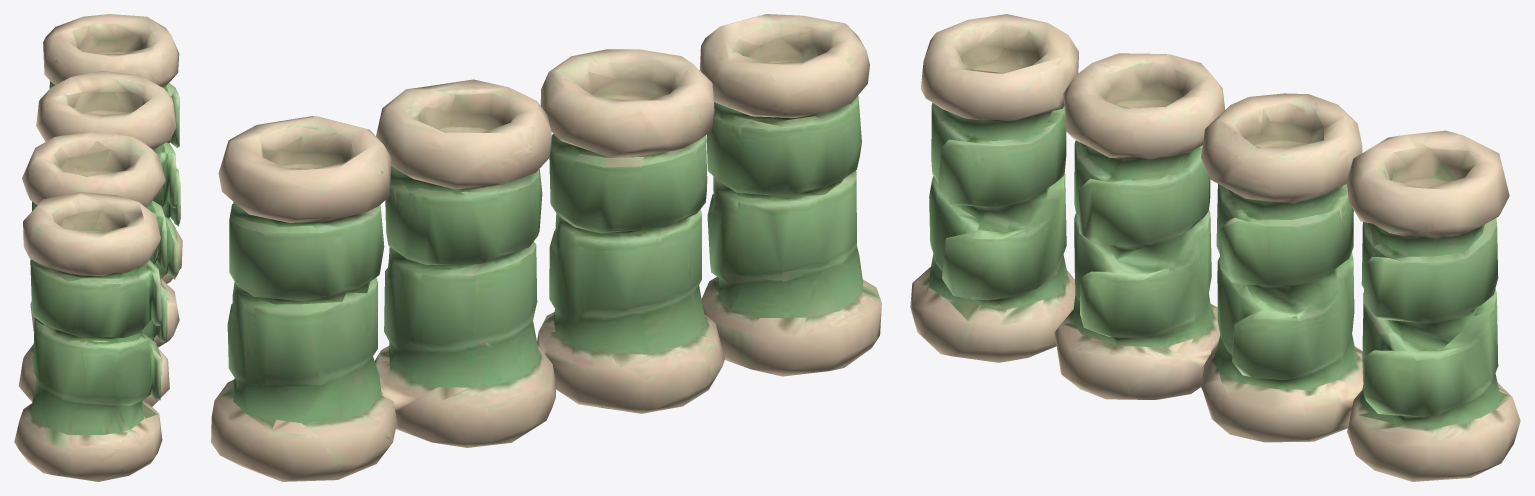
3 renders of one model, left to right at view 1: azimuth 30°, elevation 25°; view 2: azimuth 150°, elevation 25°; view 3: azimuth 270°, elevation 25°, orthographic. The views are drawn at different scales.
Visible parts, largest first — view 1: leg-wraps; view 2: leg-wraps; view 3: leg-wraps.
Part boxes in pixels (left/top/right/bottom): leg-wraps: left=14, top=14, right=182, bottom=481; leg-wraps: left=211, top=14, right=881, bottom=481; leg-wraps: left=910, top=14, right=1520, bottom=481.
Size of the model in its own units: 0.2677 by 0.1877 by 0.3547.
Materials: 1 (1 with a texture image).
